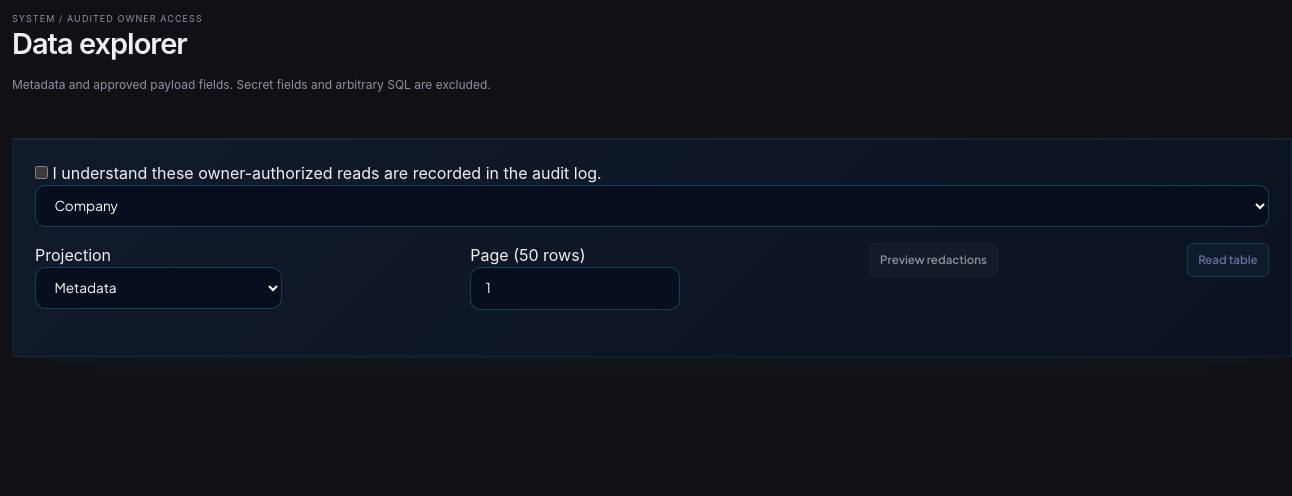
Test: evidence workspace › does not read database rows until the owner explicitly requests an audited read
This screenshot has width=1292, height=496.
Expected: the button "Read table" is disabled, [1187, 243, 1269, 277]
Click the checkbox at coordinates (42, 172), box [35, 166, 48, 179]
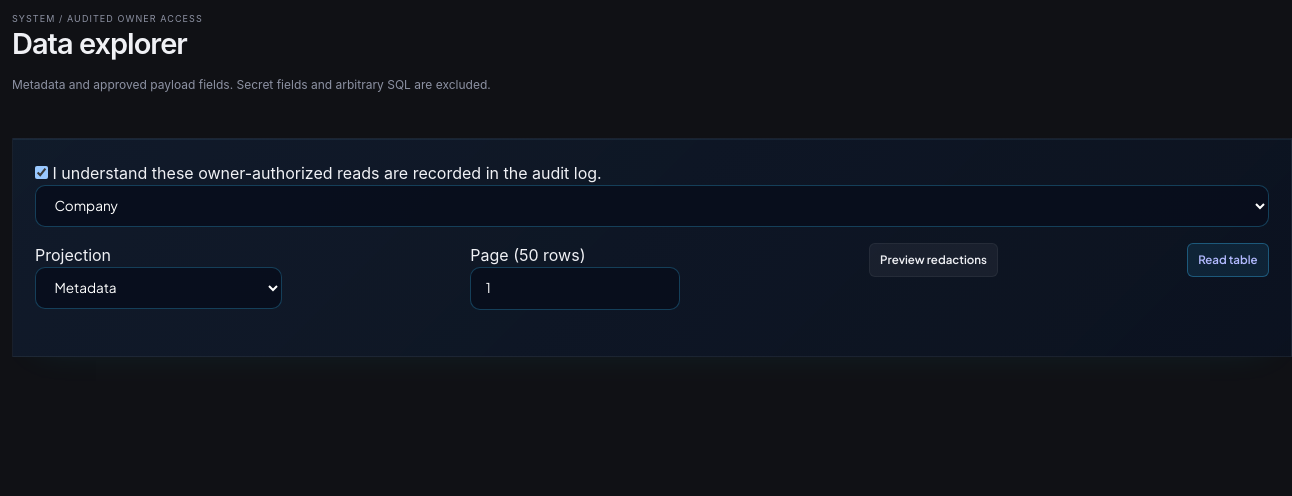
Click the button "Read table" at coordinates (1228, 260), box [1187, 243, 1269, 277]
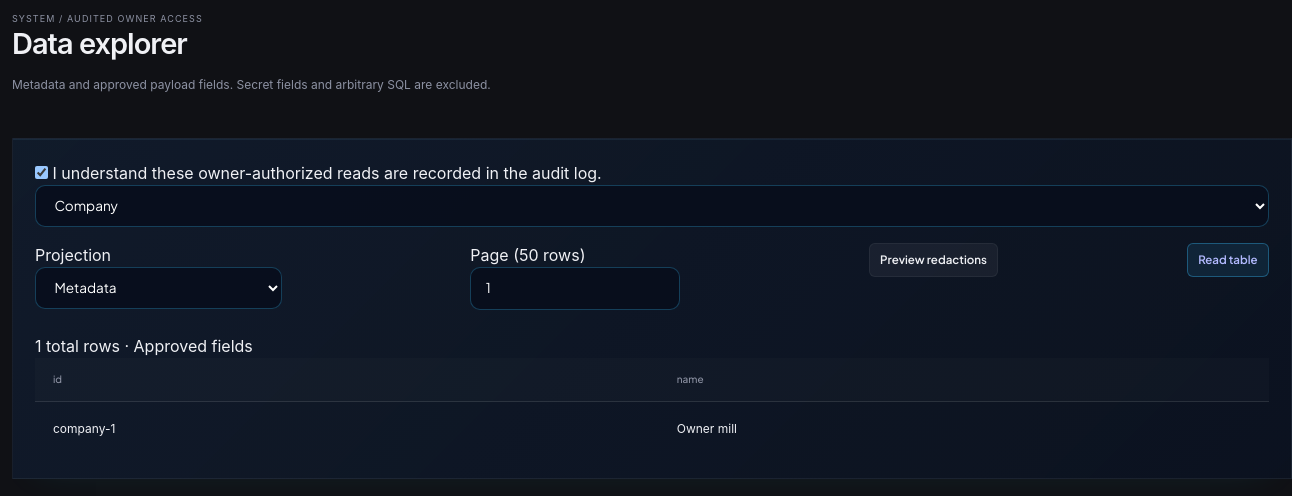
Expected: the text "Owner mill" is shown, [659, 402, 1269, 456]
